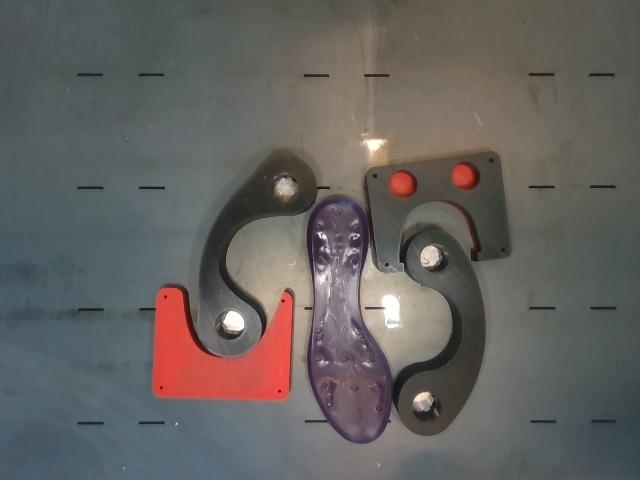shoes: (307, 195, 392, 443)
